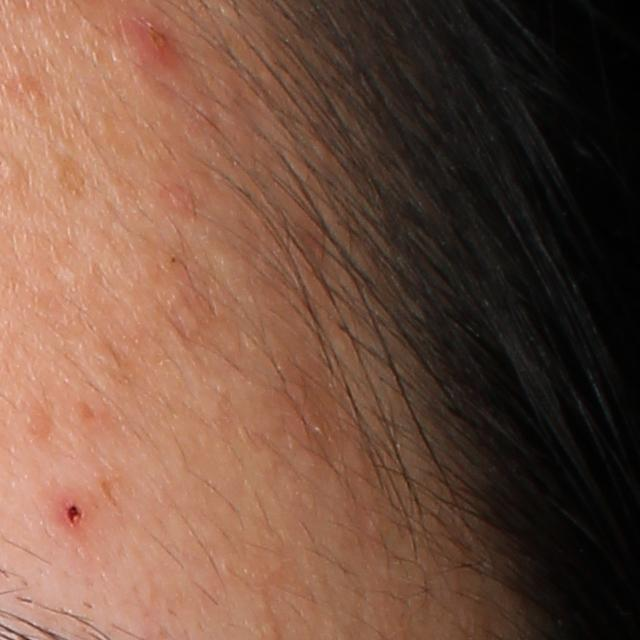papule: (131, 16, 181, 62)
